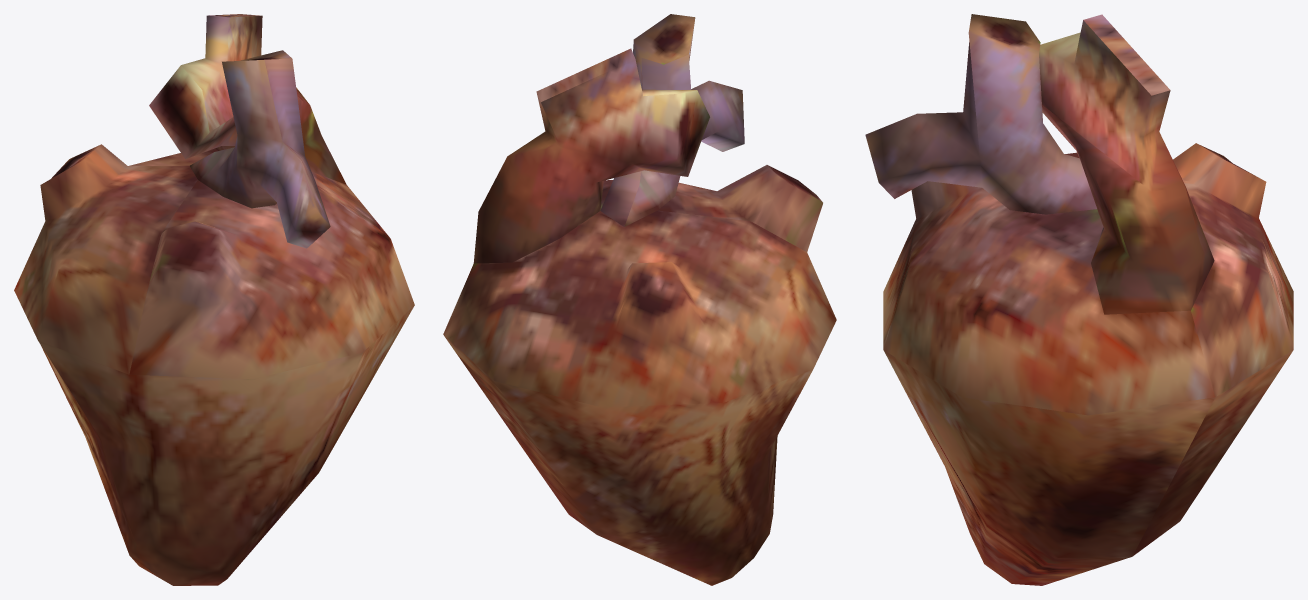
Rendered from eqp_organ_heart_s01_l1.fbx.
3 views of the same model, side by side, from view 1: azimuth 30°, elevation 25°; view 2: azimuth 150°, elevation 25°; view 3: azimuth 270°, elevation 25° (orthographic). The views are drawn at different scales.
Parts seen in each view (by area): view 1: mesh_node; view 2: mesh_node; view 3: mesh_node.
Part boxes in pixels (x1,y1,x2,y2): mesh_node: (14, 14, 414, 585); mesh_node: (443, 14, 836, 585); mesh_node: (865, 14, 1293, 585).
Size of the model in its own units: 0.1183 by 0.1733 by 0.1132.
